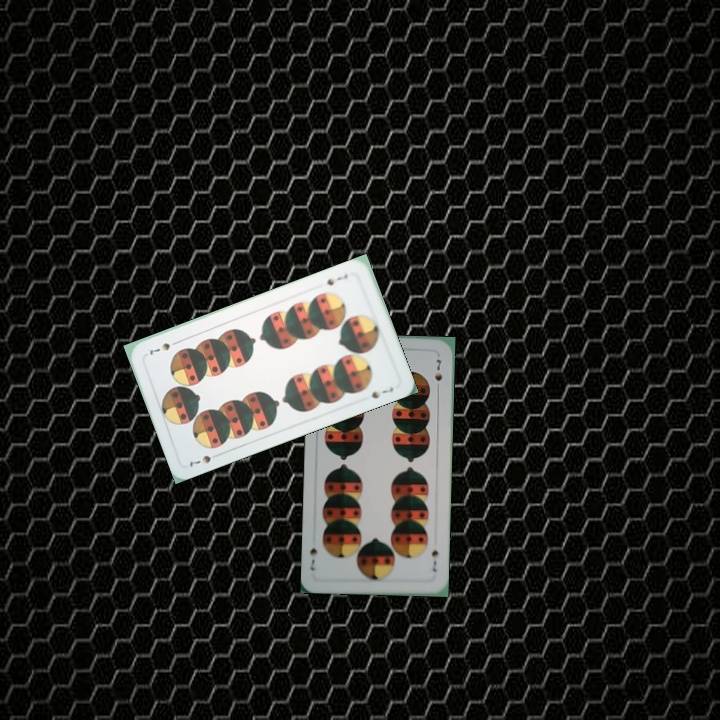S7: (185, 449, 223, 470), (323, 270, 350, 288), (428, 546, 441, 574)
